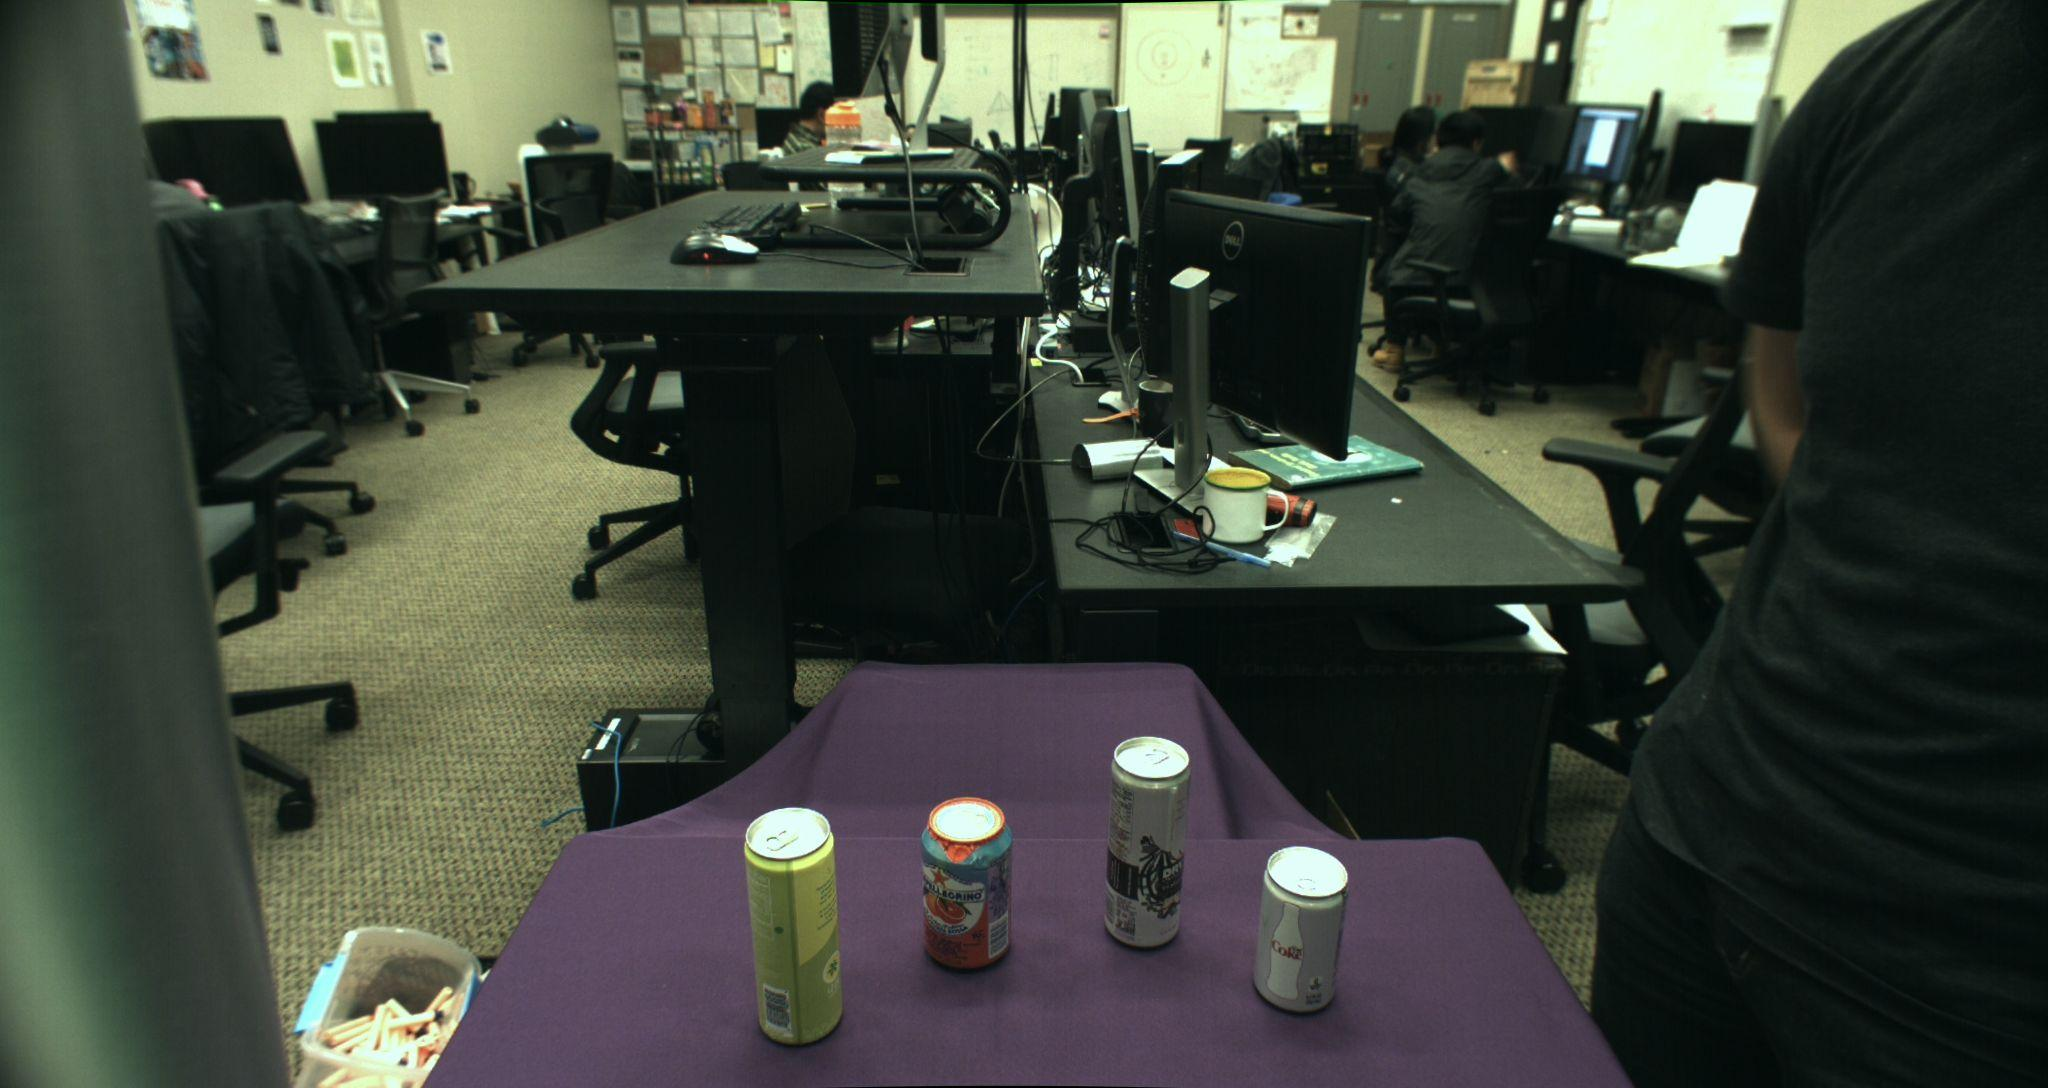can_diet_coke_small: (1253, 844, 1348, 1013)
can_dry_sparkling_vanilla_bean: (1104, 736, 1189, 948)
can_izze_fusions_lemon_lime: (742, 808, 845, 1047)
can_sanpellegrino_blood_orange: (920, 795, 1012, 971)
